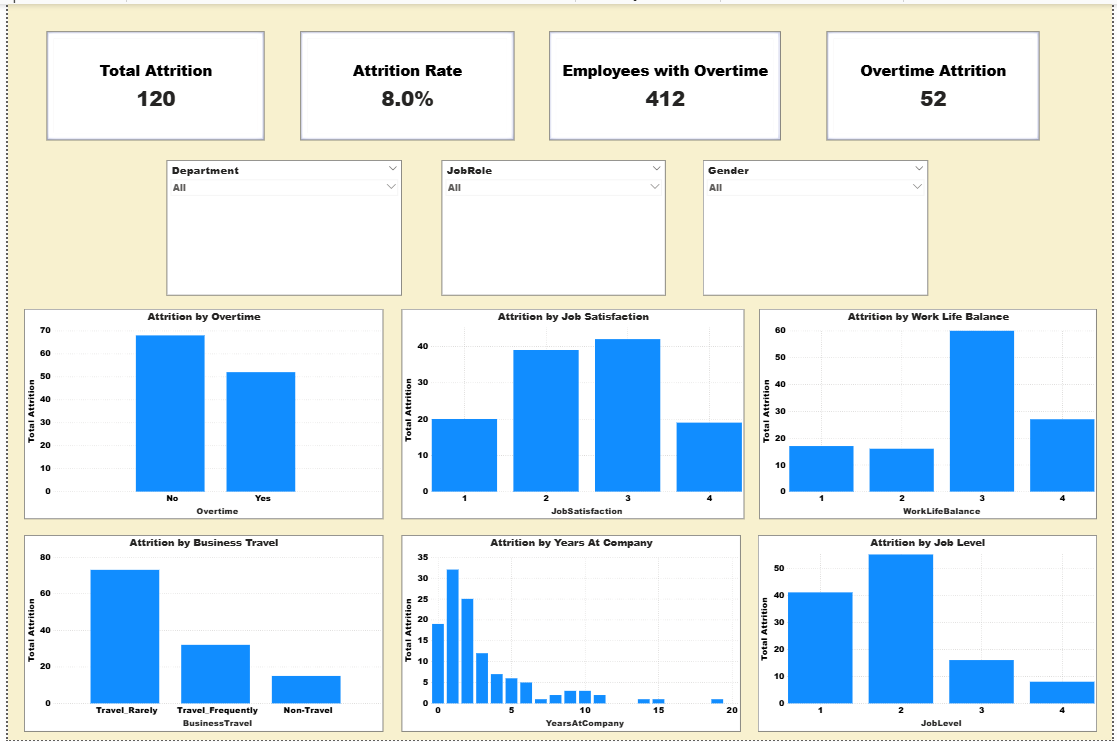

What the dashboard file says about the page in this screenshot:
{"tool":"powerbi","page":{"name":"Employee Attrition Analysis","canvas":[3000,2000],"ordinal":1},"visuals":[{"type":"clusteredColumnChart","title":"Attrition by Overtime","fields":{"Y":["DAX Measures.Total Attrition"],"Category":["EmployeeData.Overtime"]},"box":[44.2,828.8,974.9,570.7],"z":1000},{"type":"clusteredColumnChart","title":"Attrition by Job Satisfaction","fields":{"Y":["DAX Measures.Total Attrition"],"Category":["EmployeeData.JobSatisfaction"]},"box":[1070,828.8,930.7,570.7],"z":2000},{"type":"clusteredColumnChart","title":"Attrition by Work Life Balance","fields":{"Y":["DAX Measures.Total Attrition"],"Category":["EmployeeData.WorkLifeBalance"]},"box":[2041.5,828.8,917.1,570.7],"z":3000},{"type":"clusteredColumnChart","title":"Attrition by Business Travel","fields":{"Y":["DAX Measures.Total Attrition"],"Category":["EmployeeData.BusinessTravel"]},"box":[44.2,1443.6,974.9,533.3],"z":4000},{"type":"clusteredColumnChart","title":"Attrition by Years At Company","fields":{"Y":["DAX Measures.Total Attrition"],"Category":["EmployeeData.YearsAtCompany"]},"box":[1070,1443.6,920.5,533.3],"z":5000},{"type":"clusteredColumnChart","title":"Attrition by Job Level","fields":{"Y":["DAX Measures.Total Attrition"],"Category":["EmployeeData.JobLevel"]},"box":[2038.1,1443.6,920.5,533.3],"z":6000},{"type":"cardVisual","fields":{"Data":["DAX Measures.Total Attrition"]},"box":[105.3,74.7,591,295.5],"z":7000},{"type":"cardVisual","fields":{"Data":["DAX Measures.Attrition Rate"]},"box":[794.8,74.7,580.8,295.5],"z":8000},{"type":"cardVisual","fields":{"Data":["DAX Measures.Employees with Overtime"]},"box":[1470.8,74.7,628.4,295.5],"z":9000},{"type":"cardVisual","fields":{"Data":["DAX Measures.Overtime Attrition"]},"box":[2224.9,74.7,577.4,295.5],"z":10000},{"type":"slicer","fields":{"Values":["EmployeeData.Department"]},"box":[431.4,424.6,638.6,366.8],"z":11000},{"type":"slicer","fields":{"Values":["EmployeeData.JobRole"]},"box":[1178.7,424.6,608,366.8],"z":12000},{"type":"slicer","fields":{"Values":["EmployeeData.Gender"]},"box":[1888.6,424.6,611.4,366.8],"z":13000}]}

Visuals, with their boxes in screenshot pixels (x1, y1, x2, y2), scaled from the page's 3000x2000 canvas onto the 1117x742 screenshot:
"Attrition by Overtime" clusteredColumnChart: x1=16 y1=307 x2=379 y2=519
"Attrition by Job Satisfaction" clusteredColumnChart: x1=398 y1=307 x2=745 y2=519
"Attrition by Work Life Balance" clusteredColumnChart: x1=760 y1=307 x2=1102 y2=519
"Attrition by Business Travel" clusteredColumnChart: x1=16 y1=536 x2=379 y2=733
"Attrition by Years At Company" clusteredColumnChart: x1=398 y1=536 x2=741 y2=733
"Attrition by Job Level" clusteredColumnChart: x1=759 y1=536 x2=1102 y2=733
cardVisual - DAX Measures.Total Attrition: x1=39 y1=28 x2=259 y2=137
cardVisual - DAX Measures.Attrition Rate: x1=296 y1=28 x2=512 y2=137
cardVisual - DAX Measures.Employees with Overtime: x1=548 y1=28 x2=782 y2=137
cardVisual - DAX Measures.Overtime Attrition: x1=828 y1=28 x2=1043 y2=137
slicer - EmployeeData.Department: x1=161 y1=158 x2=398 y2=294
slicer - EmployeeData.JobRole: x1=439 y1=158 x2=665 y2=294
slicer - EmployeeData.Gender: x1=703 y1=158 x2=931 y2=294
